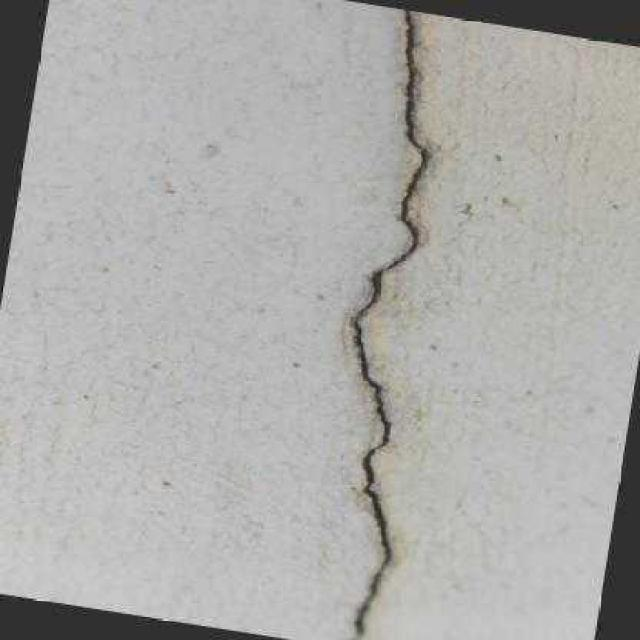D00: (336, 8, 437, 640)
